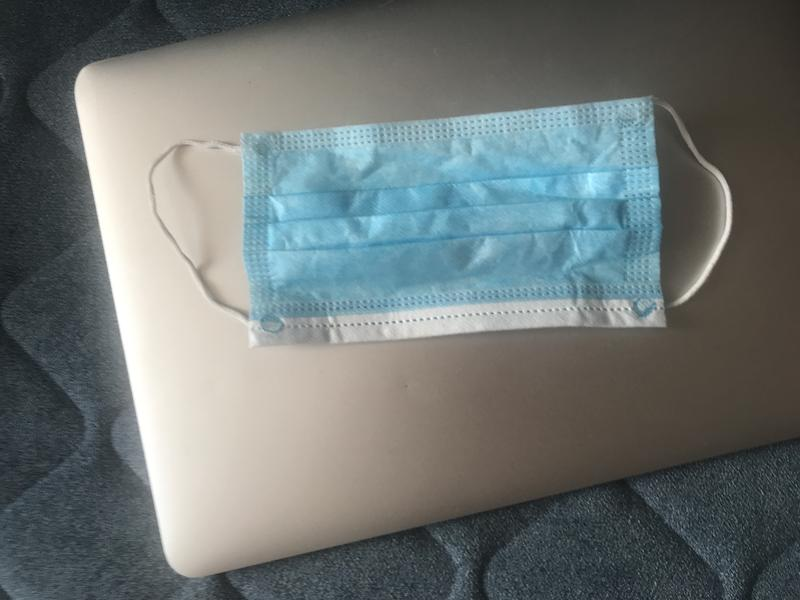medical_mask: (148, 95, 732, 343)
